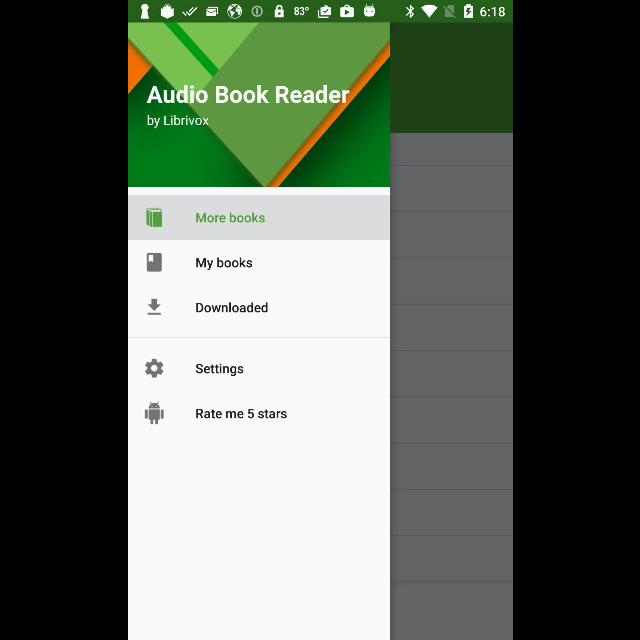icon: (144, 358, 164, 378), (146, 208, 162, 228), (146, 254, 162, 272), (146, 299, 160, 315)
image: (144, 402, 164, 424)
panel: (128, 22, 388, 640)
text: (146, 85, 350, 104), (196, 408, 286, 419), (146, 114, 208, 128), (195, 302, 267, 314), (196, 212, 264, 224), (194, 258, 252, 270), (195, 364, 243, 376)
uppertaskbar: (128, 1, 512, 23)
